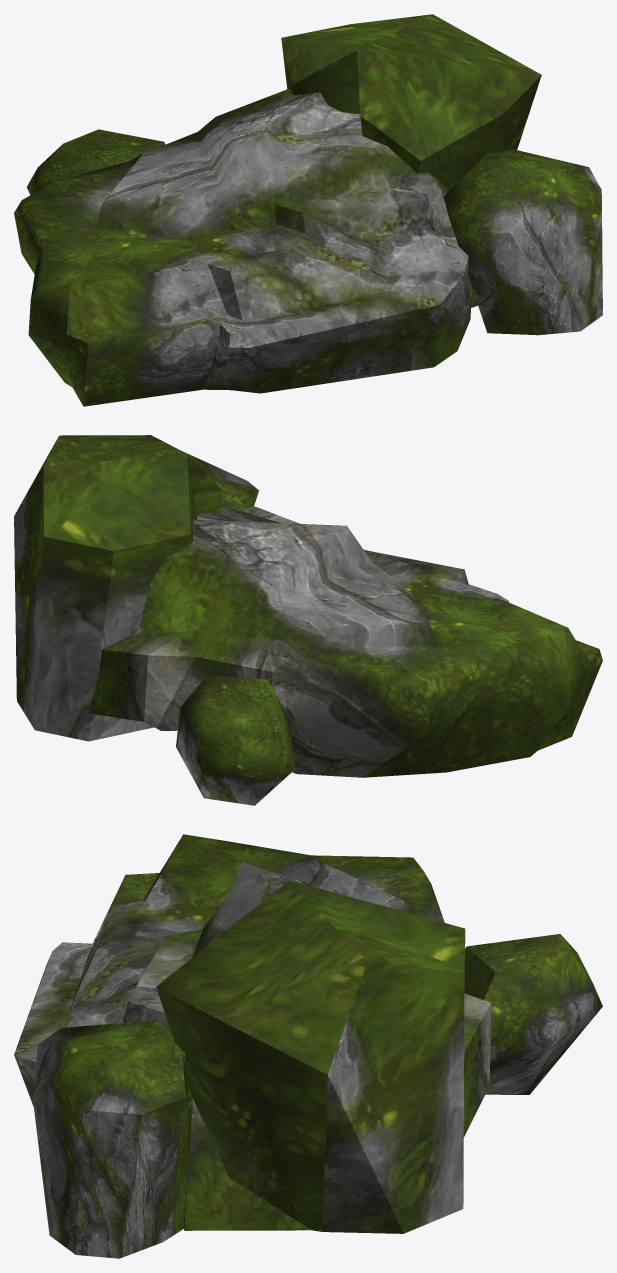
File: zz_shitou_1.FBX
3 renders of one model, top to bottom at view 1: azimuth 30°, elevation 25°; view 2: azimuth 150°, elevation 25°; view 3: azimuth 270°, elevation 25°, orthographic. The views are drawn at different scales.
Parts seen in each view (by area): view 1: zz_shitou_1; view 2: zz_shitou_1; view 3: zz_shitou_1.
Part boxes in pixels (x1=…): zz_shitou_1: x1=14, y1=14, x2=602, y2=406; zz_shitou_1: x1=14, y1=435, x2=602, y2=805; zz_shitou_1: x1=14, y1=834, x2=602, y2=1258.
Size of the model in its own units: 490 by 217 by 401.
